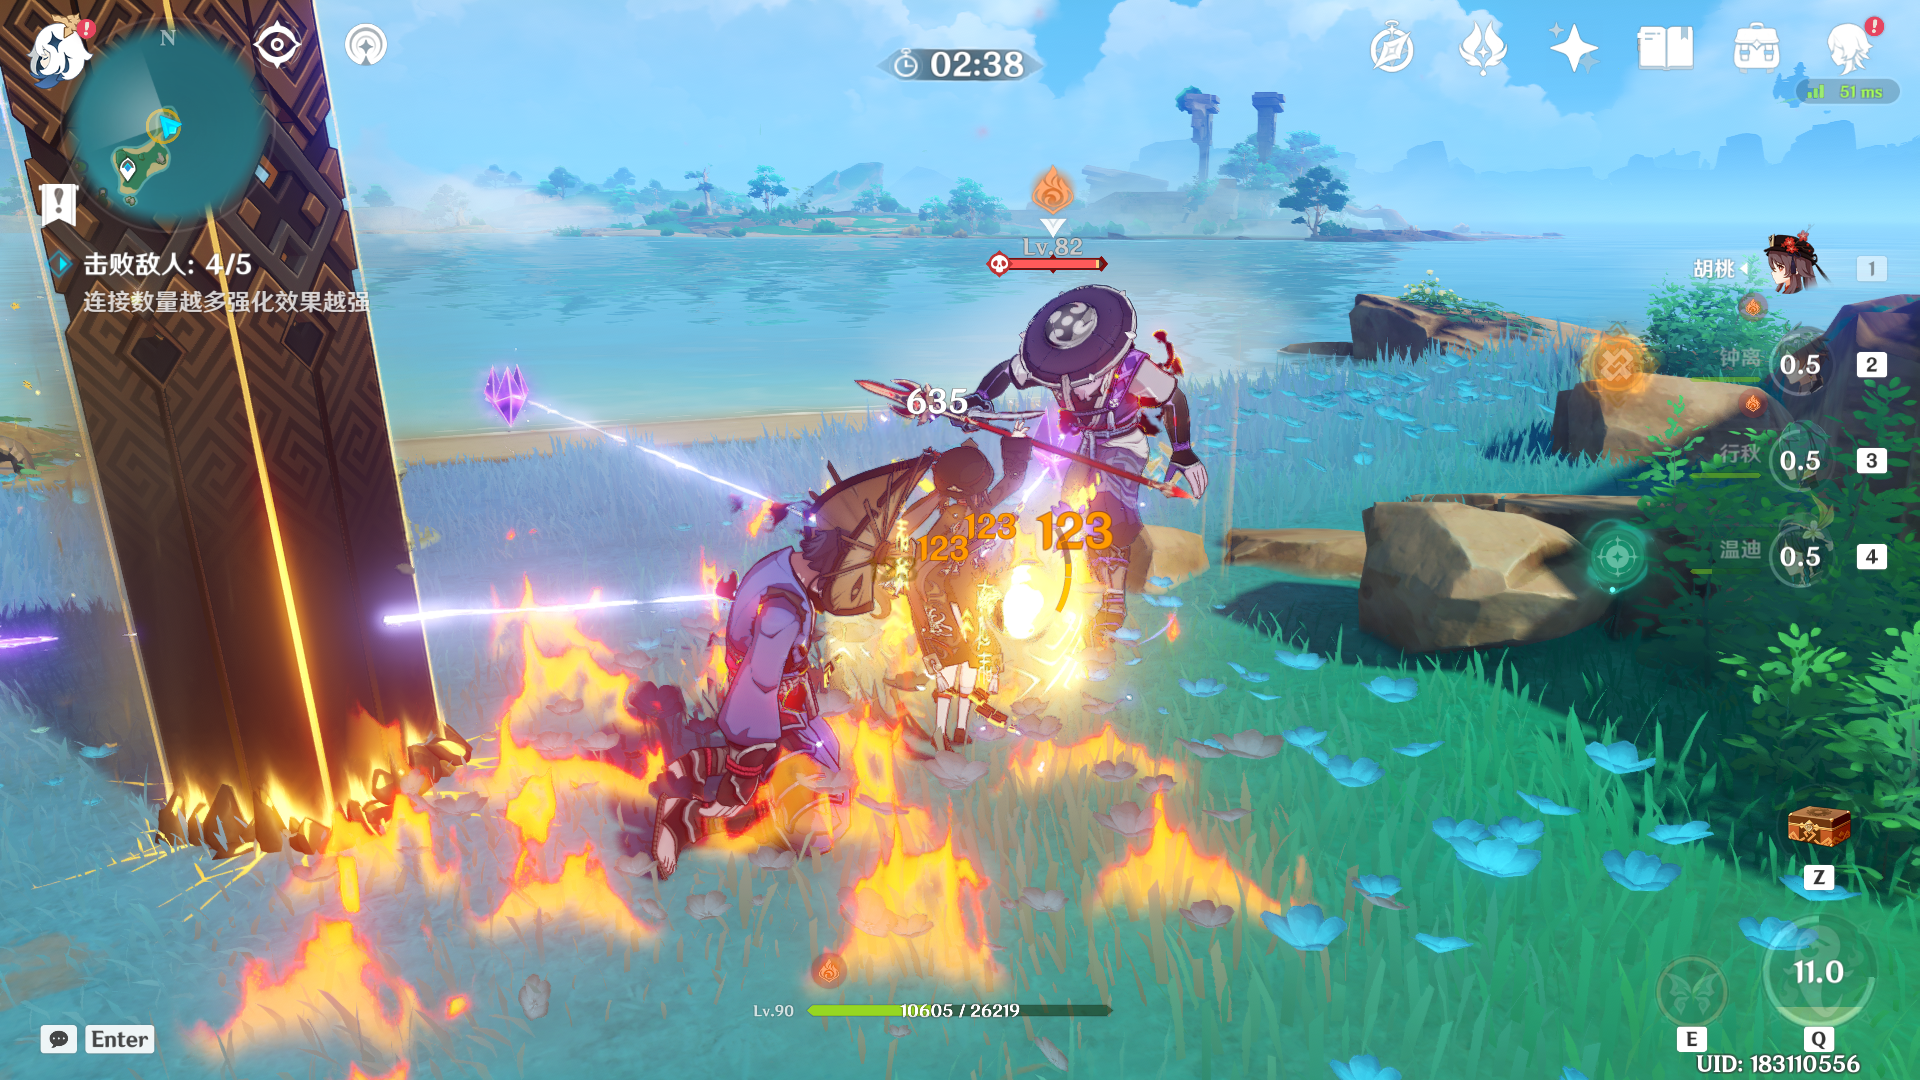character: (880, 415, 1063, 775)
samurai: (945, 266, 1261, 607), (625, 517, 873, 873)
